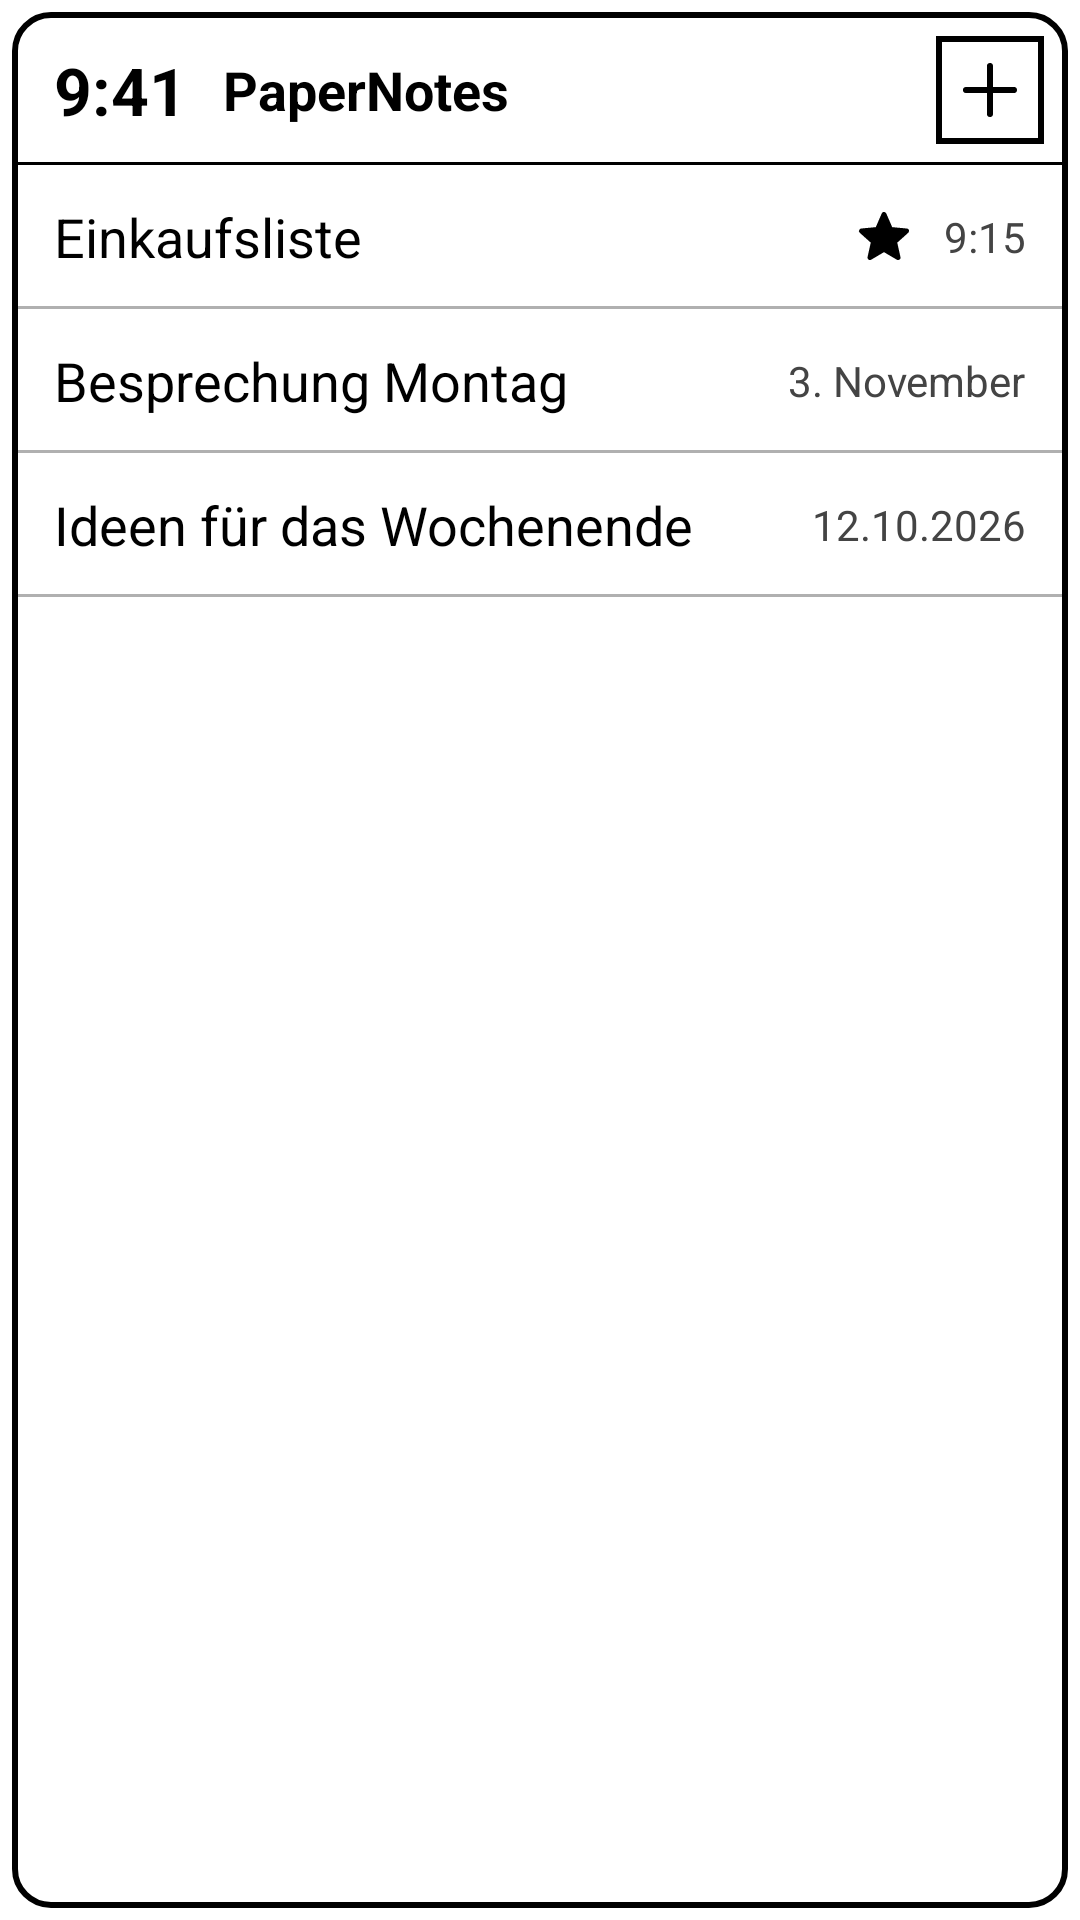

Screen size 1080px x 1920px. Icon name, then its center in pixels as point (x, y):
add: point (990, 90)
star: point (884, 236)
